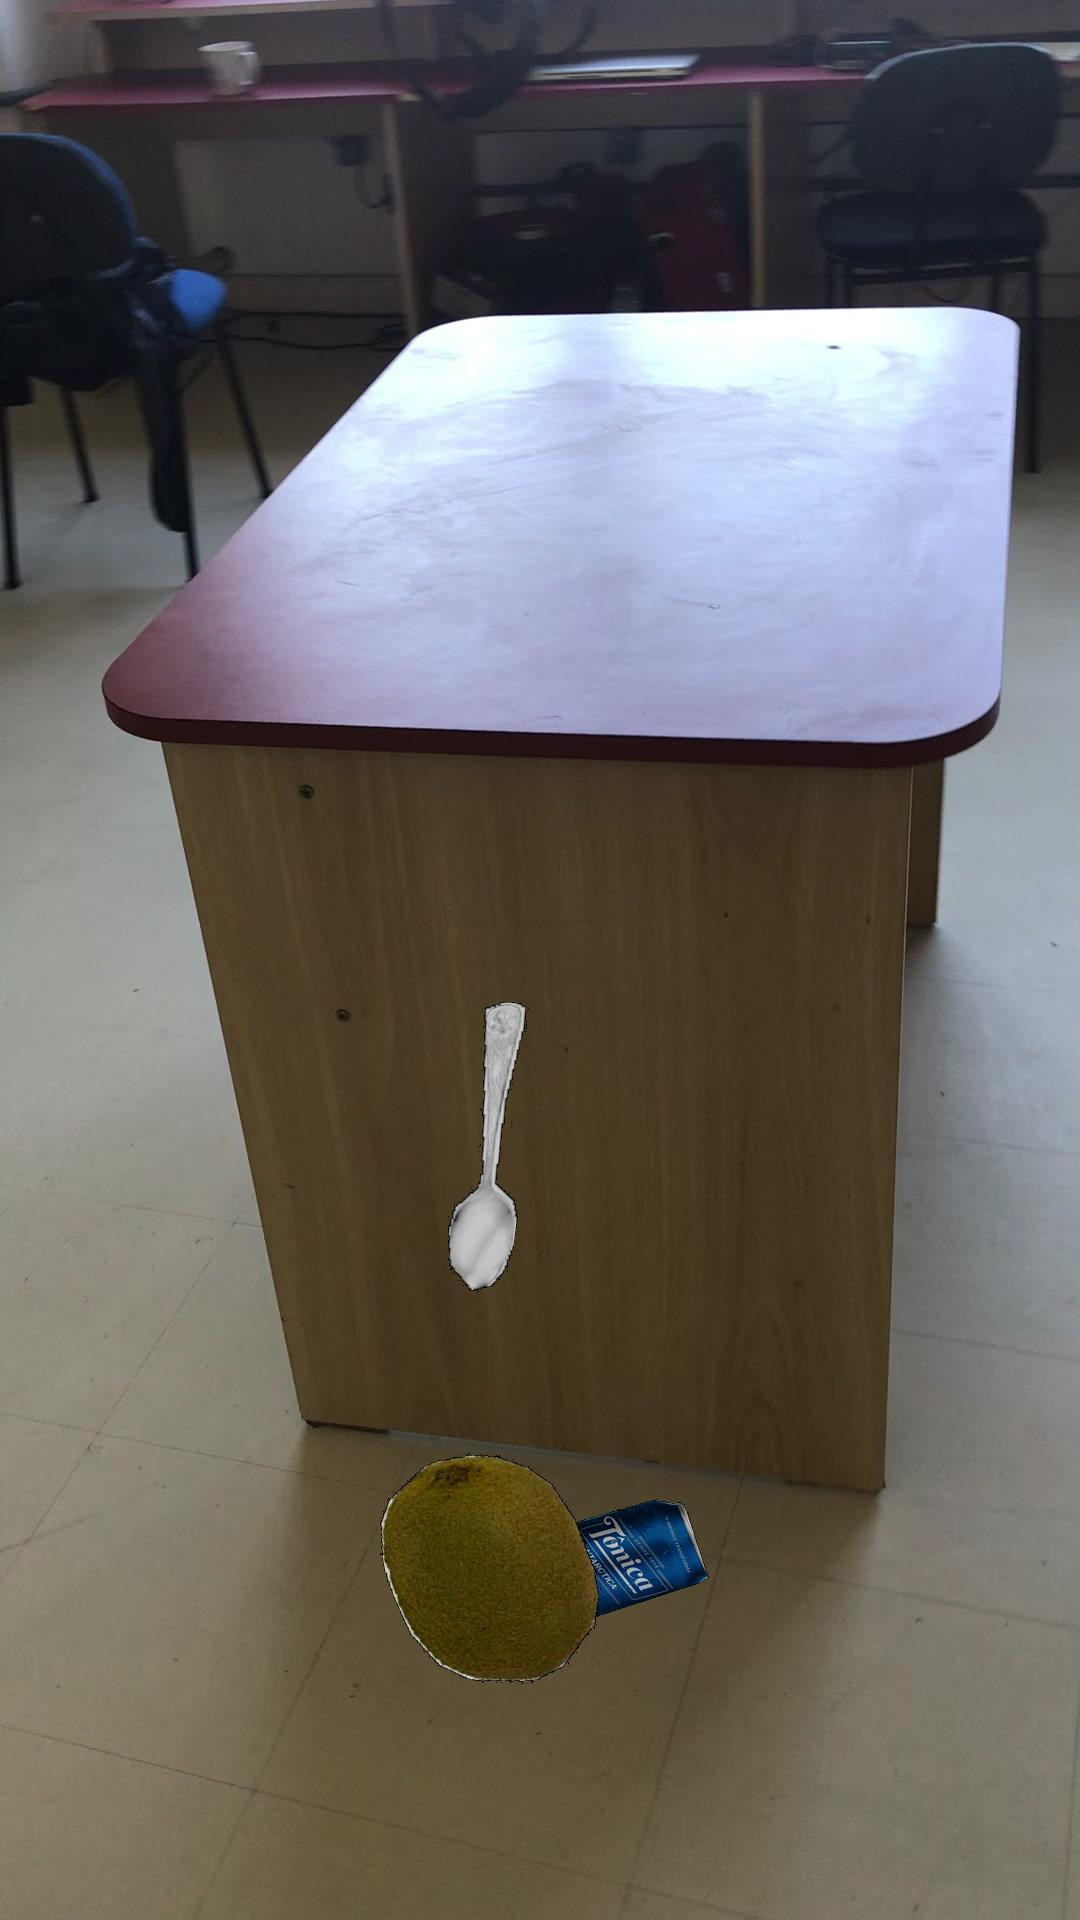kiwi: (378, 1452, 599, 1681)
spoon: (447, 1001, 525, 1290)
tonic: (575, 1498, 708, 1615)
